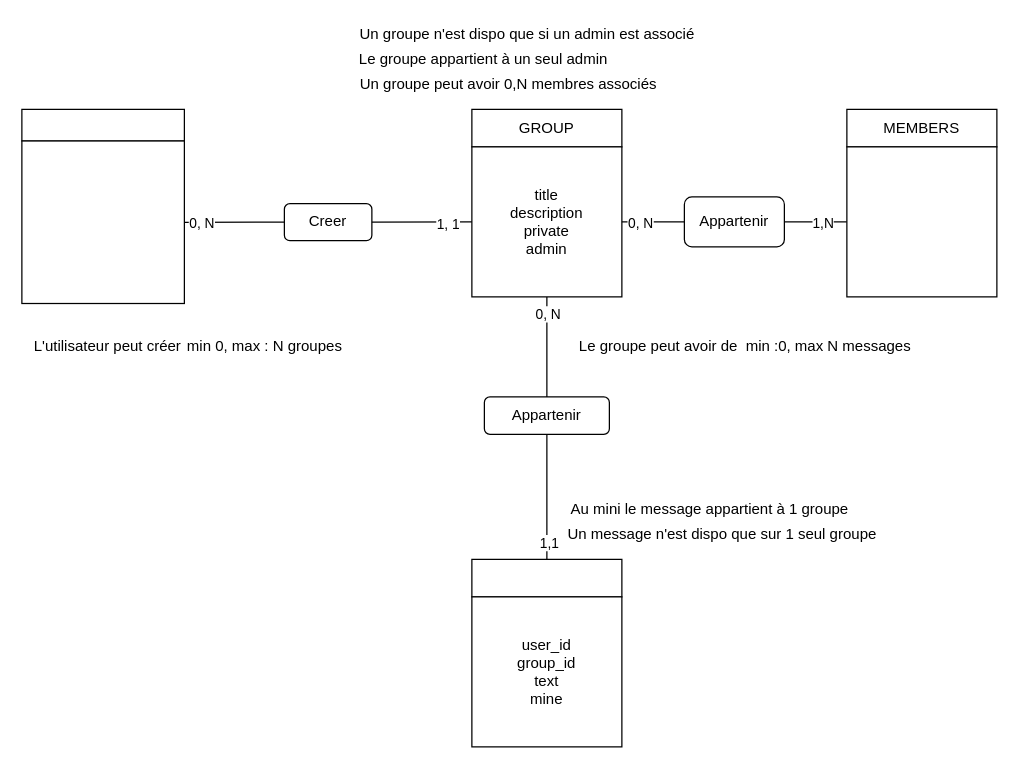
The diagram is 1019 pixels wide and 769 high, and some of its shapes have lost their labels. Each missing label, with the box of its shape:
MESSAGE: (471, 558, 622, 597)
USER: (21, 108, 184, 141)
user_id group_id grant roles: (846, 146, 997, 297)
username mail password roles status birthday filename activation_token: (21, 140, 184, 304)
